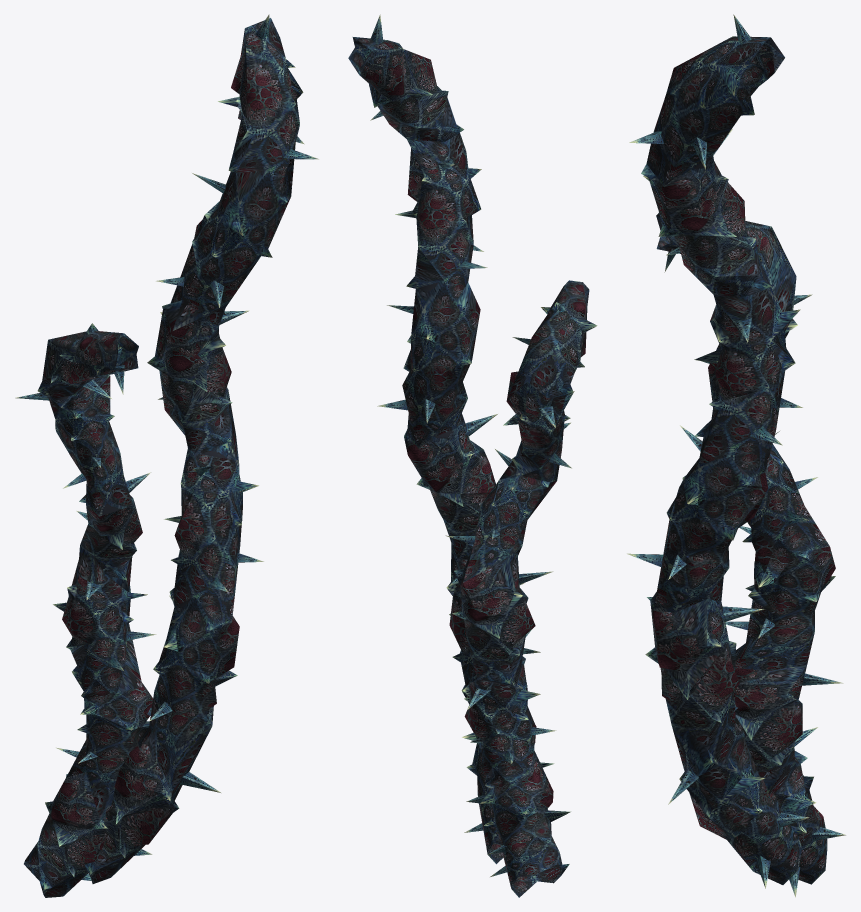
The model's file is 02_05_Makaizyu_01.fbx.
The picture shows the model from 3 angles, left to right: view 1: azimuth 30°, elevation 25°; view 2: azimuth 150°, elevation 25°; view 3: azimuth 270°, elevation 25°; orthographic projection. The views are drawn at different scales.
Parts seen in each view (by area): view 1: LODGroup_3_MainMesh_1_SubMesh_1; view 2: LODGroup_3_MainMesh_1_SubMesh_1; view 3: LODGroup_3_MainMesh_1_SubMesh_1.
Part boxes in pixels (x1,y1,x2,y2): LODGroup_3_MainMesh_1_SubMesh_1: (15, 14, 318, 897); LODGroup_3_MainMesh_1_SubMesh_1: (348, 14, 597, 897); LODGroup_3_MainMesh_1_SubMesh_1: (627, 14, 845, 897).
Size of the model in its own units: 491 by 1635 by 336.
